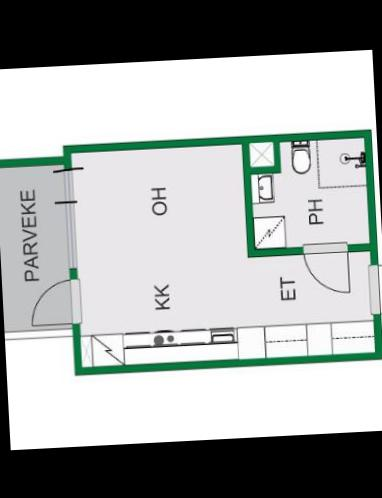door: (25, 274, 84, 328), (299, 240, 350, 296), (366, 259, 382, 317)
window: (64, 198, 83, 270), (62, 162, 80, 204)
